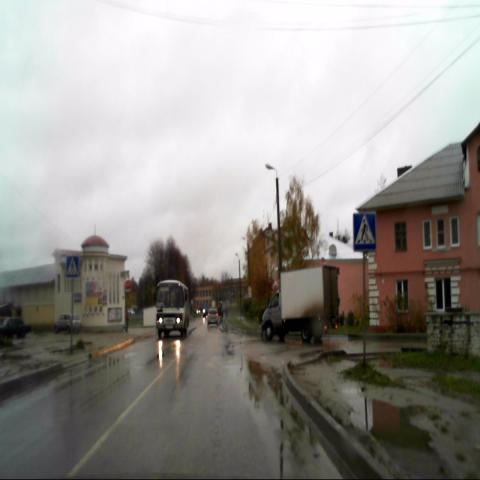5_19_1: (353, 213, 376, 252), (66, 256, 78, 277)
